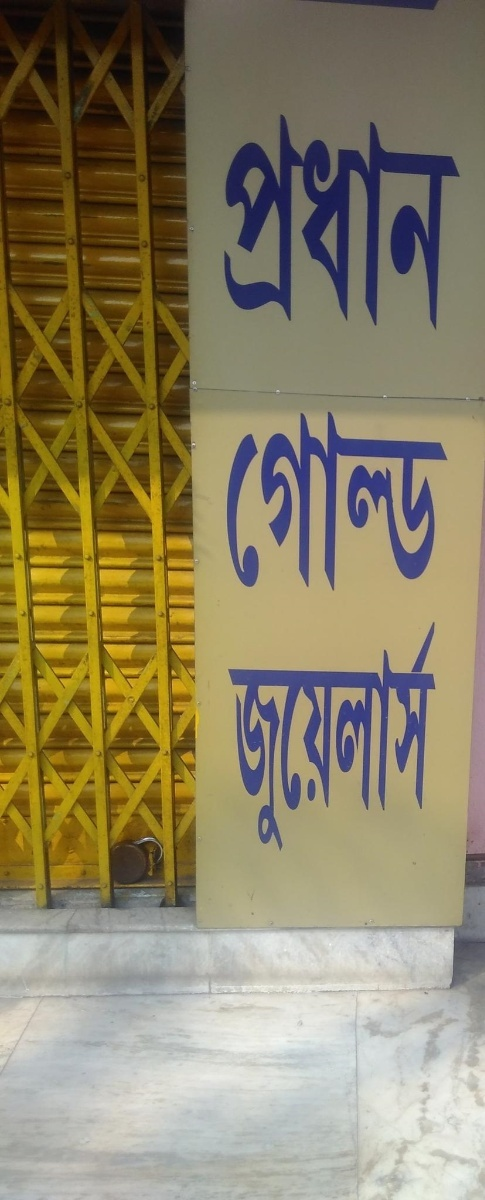text: (241, 615, 256, 854), (257, 615, 272, 854), (273, 615, 288, 854), (289, 615, 304, 854), (305, 615, 320, 854), (321, 615, 336, 854), (337, 615, 352, 854), (353, 615, 368, 854), (369, 615, 384, 854), (385, 615, 400, 854), (401, 615, 416, 854), (417, 615, 432, 854), (225, 110, 240, 330), (241, 110, 256, 330), (257, 110, 272, 330), (273, 110, 288, 330), (289, 110, 304, 330), (305, 110, 320, 330), (321, 110, 336, 330), (337, 110, 352, 330), (353, 110, 368, 330), (369, 110, 384, 330), (385, 110, 400, 330), (401, 110, 416, 330), (417, 110, 432, 330), (433, 110, 448, 330), (449, 110, 463, 330), (228, 615, 240, 854), (225, 409, 240, 597), (241, 409, 256, 597), (257, 409, 272, 597), (273, 409, 288, 597), (289, 409, 304, 597), (305, 409, 320, 597), (321, 409, 336, 597), (337, 409, 352, 597), (353, 409, 368, 597), (369, 409, 384, 597), (385, 409, 400, 597), (401, 409, 416, 597), (417, 409, 432, 597), (433, 409, 448, 597), (215, 409, 224, 597), (433, 615, 437, 854), (449, 409, 453, 597)
